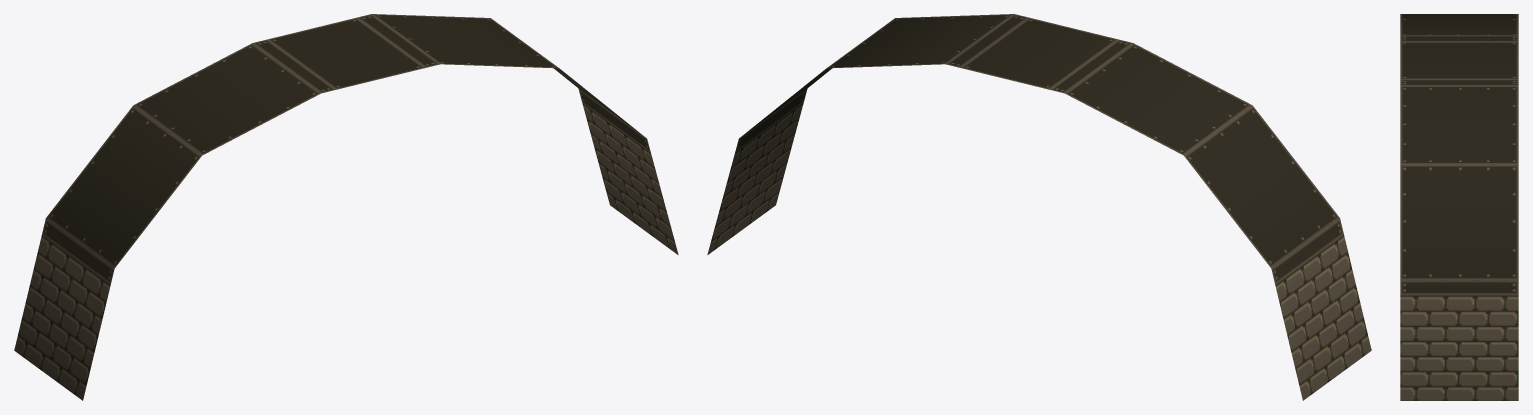
The model's file is Roof03.fbx.
3 views of the same model, side by side, from view 1: azimuth 30°, elevation 25°; view 2: azimuth 150°, elevation 25°; view 3: azimuth 270°, elevation 25° (orthographic). The views are drawn at different scales.
Parts seen in each view (by area): view 1: Roof03; view 2: Roof03; view 3: Roof03.
Boxes of the visible parts, left/top/right/bottom form: Roof03: left=14, top=14, right=678, bottom=400; Roof03: left=707, top=14, right=1371, bottom=400; Roof03: left=1400, top=14, right=1518, bottom=400.
Size of the model in its own units: 1000 by 400 by 200.
